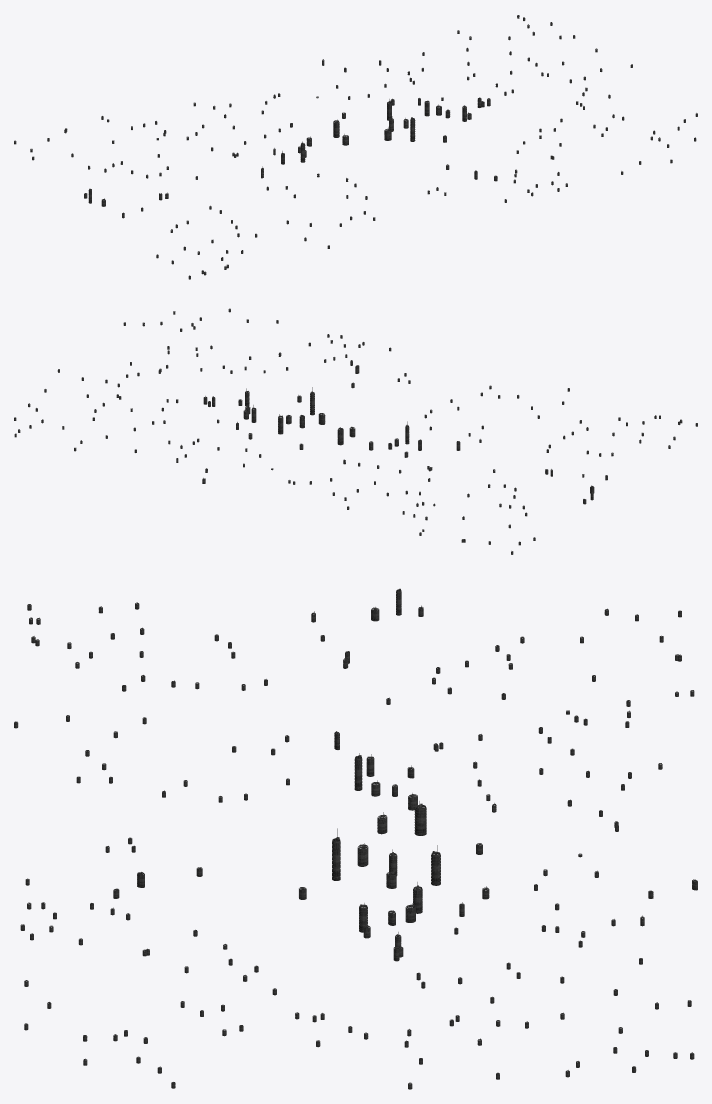
3 renders of one model, top to bottom at view 1: azimuth 30°, elevation 25°; view 2: azimuth 150°, elevation 25°; view 3: azimuth 270°, elevation 25°, orthographic. The views are drawn at different scales.
Visible parts, largest first — view 1: Scatter city_SC low-poly building facade_0.007, Scatter city_SC low-poly building facade_0.009, Scatter city_SC low-poly building facade_0.008, Scatter city_SC low-poly building facade_0.010, Scatter city_SC low-poly building facade_0.006, Scatter city_SC low-poly building facade_0.011; view 2: Scatter city_SC low-poly building facade_0.007, Scatter city_SC low-poly building facade_0.009, Scatter city_SC low-poly building facade_0.010, Scatter city_SC low-poly building facade_0.008, Scatter city_SC low-poly building facade_0.006, Scatter city_SC low-poly building facade_0.011; view 3: Scatter city_SC low-poly building facade_0.007, Scatter city_SC low-poly building facade_0.009, Scatter city_SC low-poly building facade_0.008, Scatter city_SC low-poly building facade_0.010, Scatter city_SC low-poly building facade_0.006, Scatter city_SC low-poly building facade_0.011.
Boxes of the visible parts, x1,y1,x2,y2 form: Scatter city_SC low-poly building facade_0.007: [14, 47, 660, 258]; Scatter city_SC low-poly building facade_0.009: [30, 15, 641, 253]; Scatter city_SC low-poly building facade_0.008: [101, 17, 603, 279]; Scatter city_SC low-poly building facade_0.010: [101, 31, 696, 275]; Scatter city_SC low-poly building facade_0.006: [32, 30, 652, 274]; Scatter city_SC low-poly building facade_0.011: [84, 24, 697, 237]; Scatter city_SC low-poly building facade_0.007: [105, 323, 670, 554]; Scatter city_SC low-poly building facade_0.009: [14, 319, 627, 545]; Scatter city_SC low-poly building facade_0.010: [35, 308, 682, 535]; Scatter city_SC low-poly building facade_0.008: [14, 334, 697, 509]; Scatter city_SC low-poly building facade_0.006: [57, 326, 680, 544]; Scatter city_SC low-poly building facade_0.011: [28, 320, 586, 531]; Scatter city_SC low-poly building facade_0.007: [20, 588, 681, 1043]; Scatter city_SC low-poly building facade_0.009: [14, 614, 694, 1079]; Scatter city_SC low-poly building facade_0.008: [27, 604, 677, 1072]; Scatter city_SC low-poly building facade_0.010: [24, 611, 697, 1067]; Scatter city_SC low-poly building facade_0.006: [25, 608, 691, 1089]; Scatter city_SC low-poly building facade_0.011: [24, 605, 678, 1088].
Size of the model in its own units: 49.57 by 2.47 by 29.76.
1 material, 1 textured.
